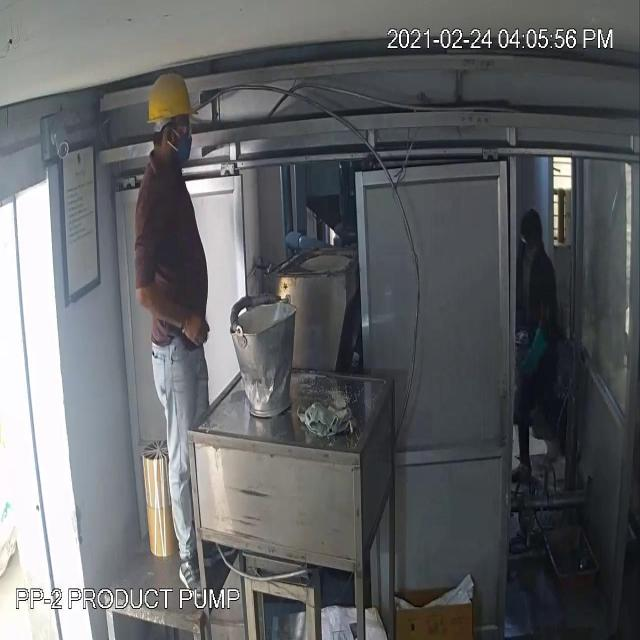helmet: (142, 66, 198, 133)
